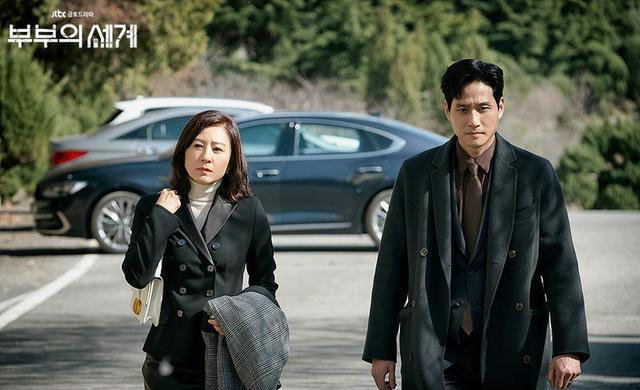noWear: (442, 89, 506, 150), (183, 136, 233, 183)
